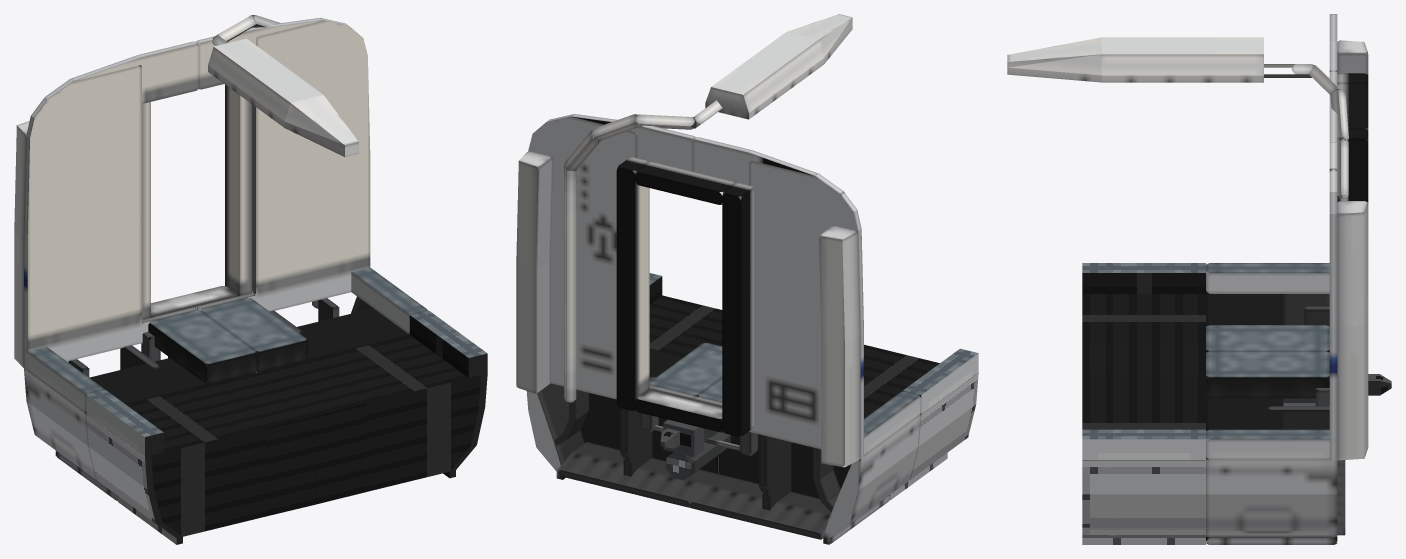
Rendered from endface_horizontal_wired.obj.
The picture shows the model from 3 angles, left to right: view 1: azimuth 30°, elevation 25°; view 2: azimuth 150°, elevation 25°; view 3: azimuth 270°, elevation 25°; orthographic projection. The views are drawn at different scales.
Parts seen in each view (by area): view 1: 端面1, 裙板-仪器舱靠近端面R, 裙板-仪器舱靠近端面L, 裙板-仪器舱R, 地板-中间, mesh, 内风挡-侧, 裙板-仪器舱L, 端面2, 外风挡, 内风挡-下, 防雪风挡骨架 (+1 smaller); view 2: 端面1, 外风挡, 内风挡-侧, mesh, 裙板-仪器舱R, 防雪风挡, 裙板-仪器舱靠近端面R, 裙板-仪器舱L, 端面2, 裙板-仪器舱靠近端面L, 防雪风挡骨架, 地板-中间 (+6 smaller); view 3: 裙板-仪器舱靠近端面L, 裙板-仪器舱L, 裙板-仪器舱靠近端面R, mesh, 外风挡, 地板-中间, 裙板-仪器舱R, 端面1, 内风挡-侧, 防雪风挡骨架, 内风挡-上, 端面2 (+2 smaller).
Part boxes in pixels (x1,y1,x2,y2): 端面1: (24, 17, 370, 370); 裙板-仪器舱靠近端面R: (86, 372, 316, 544); 裙板-仪器舱靠近端面L: (258, 310, 487, 504); 裙板-仪器舱R: (24, 346, 257, 500); 地板-中间: (148, 297, 308, 383); mesh: (208, 15, 358, 308); 内风挡-侧: (142, 84, 255, 323); 裙板-仪器舱L: (255, 267, 427, 372); 端面2: (71, 18, 322, 103); 外风挡: (14, 121, 29, 367); 内风挡-下: (151, 286, 238, 317); 防雪风挡骨架: (120, 310, 302, 369); 端面1: (528, 114, 863, 458); 外风挡: (516, 151, 860, 467); 内风挡-侧: (616, 157, 754, 436); mesh: (564, 14, 852, 402); 裙板-仪器舱R: (718, 391, 921, 544); 防雪风挡: (558, 442, 831, 539); 裙板-仪器舱靠近端面R: (864, 344, 978, 499); 裙板-仪器舱L: (526, 348, 718, 479); 端面2: (572, 114, 817, 196); 裙板-仪器舱靠近端面L: (649, 273, 722, 356); 防雪风挡骨架: (620, 376, 791, 510); 地板-中间: (649, 343, 722, 402); 裙板-仪器舱靠近端面L: (1082, 372, 1205, 544); 裙板-仪器舱L: (1206, 397, 1337, 544); 裙板-仪器舱靠近端面R: (1082, 263, 1205, 372); mesh: (1007, 37, 1348, 202); 外风挡: (1337, 40, 1368, 460); 地板-中间: (1206, 325, 1329, 398); 裙板-仪器舱R: (1206, 263, 1329, 326); 端面1: (1329, 14, 1337, 460); 内风挡-侧: (1337, 73, 1368, 202); 防雪风挡骨架: (1268, 406, 1329, 429); 内风挡-上: (1337, 83, 1368, 139); 端面2: (1329, 14, 1337, 142).
Bounding box in the file's own units: 3.38 × 3.81 × 3.11.
